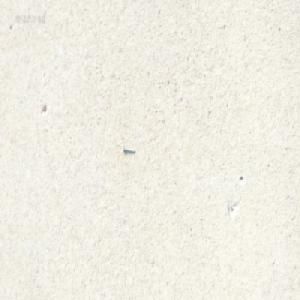Nail: (122, 144, 135, 153)
